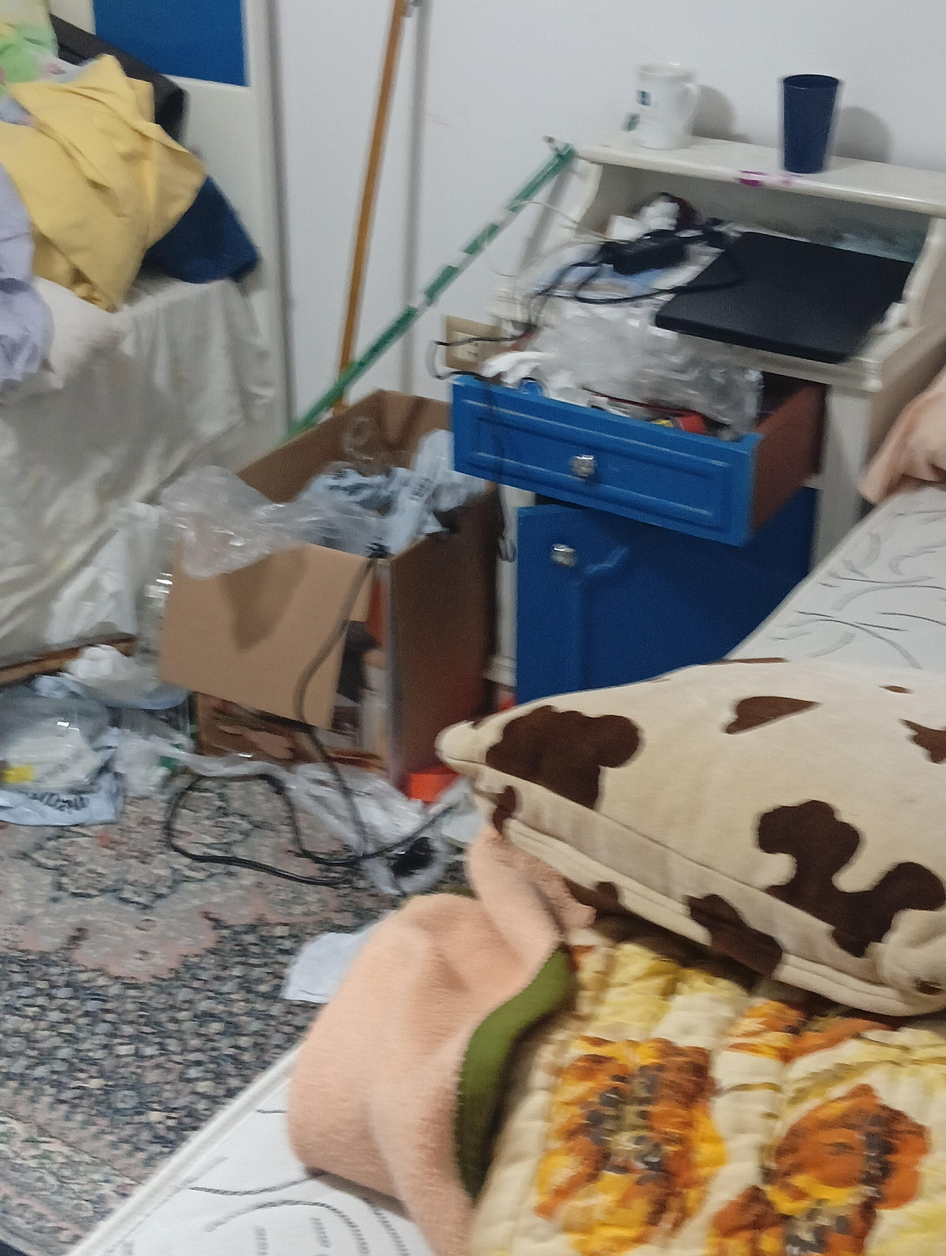cup: (782, 74, 840, 173), (635, 63, 699, 149)
